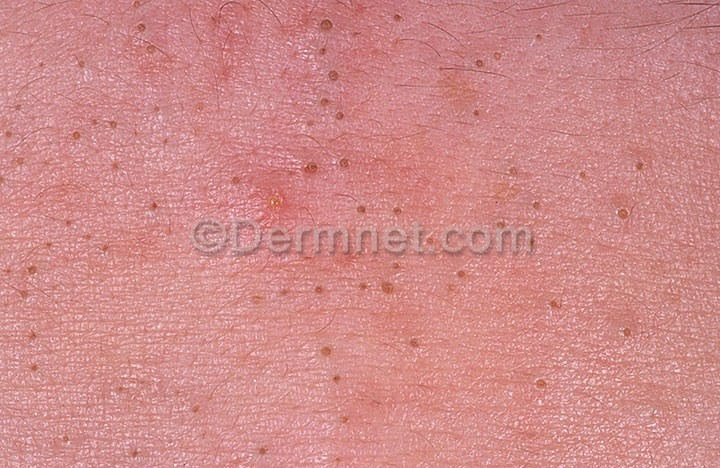Acne: (50, 5, 664, 327)
